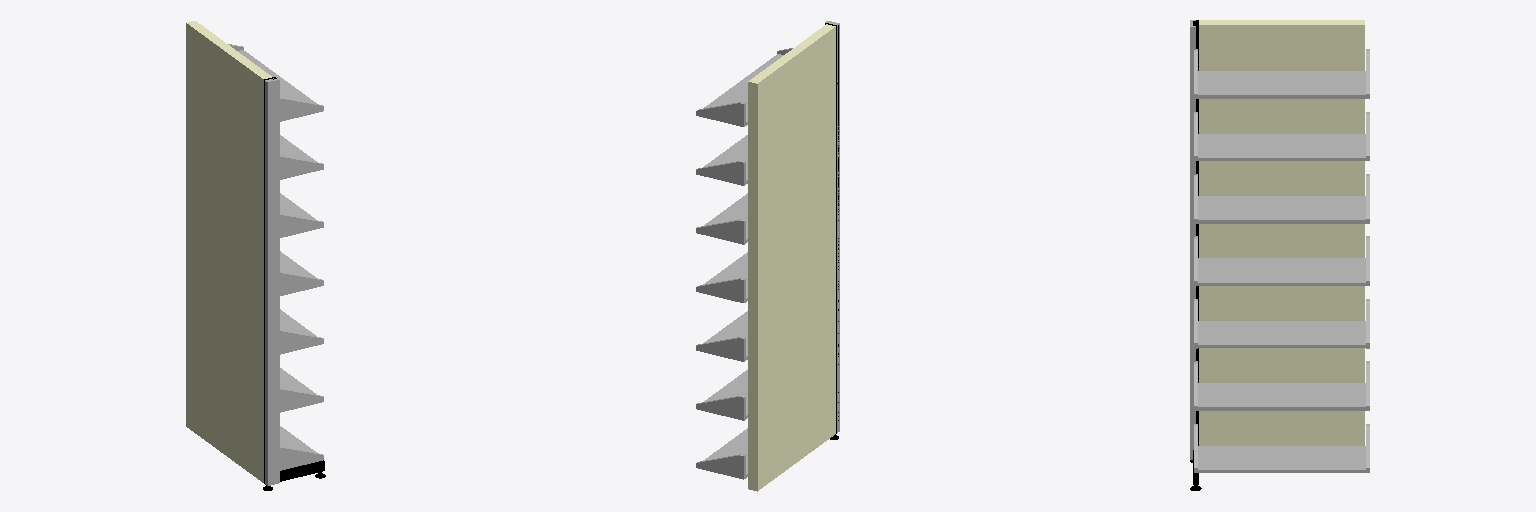
The robot description file, URDF, robot "room602-bariera-1200-left8":
<?xml version="1.0"?>
<robot name="room602-bariera-1200-left8"
       xmlns:xi="http://www.w3.org/2001/XInclude"
       xmlns:gazebo="http://playerstage.sourceforge.net/gazebo/xmlschema/#gz"
       xmlns:model="http://playerstage.sourceforge.net/gazebo/xmlschema/#model"
       xmlns:sensor="http://playerstage.sourceforge.net/gazebo/xmlschema/#sensor"
       xmlns:body="http://playerstage.sourceforge.net/gazebo/xmlschema/#body"
       xmlns:geom="http://playerstage.sourceforge.net/gazebo/xmlschema/#geom"
       xmlns:joint="http://playerstage.sourceforge.net/gazebo/xmlschema/#joint"
       xmlns:interface="http://playerstage.sourceforge.net/gazebo/xmlschema/#interface"
       xmlns:rendering="http://playerstage.sourceforge.net/gazebo/xmlschema/#rendering"
       xmlns:renderable="http://playerstage.sourceforge.net/gazebo/xmlschema/#renderable"
       xmlns:controller="http://playerstage.sourceforge.net/gazebo/xmlschema/#controller"
       xmlns:physics="http://playerstage.sourceforge.net/gazebo/xmlschema/#physics">
  <gazebo>
    <static>false</static>
  </gazebo>
  <link name="nil_link">
    <visual>
      <origin xyz="0 0 0" rpy="0 -0 0"/>
      <geometry>
        <mesh filename="model://room602-bariera-1200-left8/meshes/nil_link_mesh.dae" scale="1 1 1" />
      </geometry>
    </visual>
    <collision>
      <origin xyz="0 0 0" rpy="0 -0 0"/>
      <geometry>
        <mesh filename="model://room602-bariera-1200-left8/meshes/nil_link_mesh.dae" scale="1 1 1" />
      </geometry>
    </collision>
    <inertial>
      <mass value="0.001" />
      <origin xyz="0 0 0" rpy="0 -0 0"/>
      <inertia ixx="1e-09" ixy="0" ixz="0" iyy="1e-09" iyz="0" izz="1e-09"/>
    </inertial>
  </link>
  <gazebo reference="nil_link">
    <mu1>0.9</mu1>
    <mu2>0.9</mu2>
  </gazebo>
</robot>

--- Facts derived from the render (not from the file) ---
Views: 3 orthographic renders of the robot side by side, from view 1: azimuth 30°, elevation 25°; view 2: azimuth 150°, elevation 25°; view 3: azimuth 270°, elevation 25°.
Robot: room602-bariera-1200-left8 — 1 links, 0 joints (none); root link nil_link; default pose: every joint at zero.
Visible links, largest first — view 1: nil_link; view 2: nil_link; view 3: nil_link.
Boxes of the visible links, left/top/right/bottom form: nil_link: left=186, top=21, right=325, bottom=490; nil_link: left=696, top=21, right=839, bottom=491; nil_link: left=1190, top=20, right=1369, bottom=490.
Bounding box of the posed robot: 0.4 × 0.939 × 2.54 m (x, y, z).
Meshes: 1 distinct files referenced, 1 mesh visuals loaded (1 Collada DAE).
